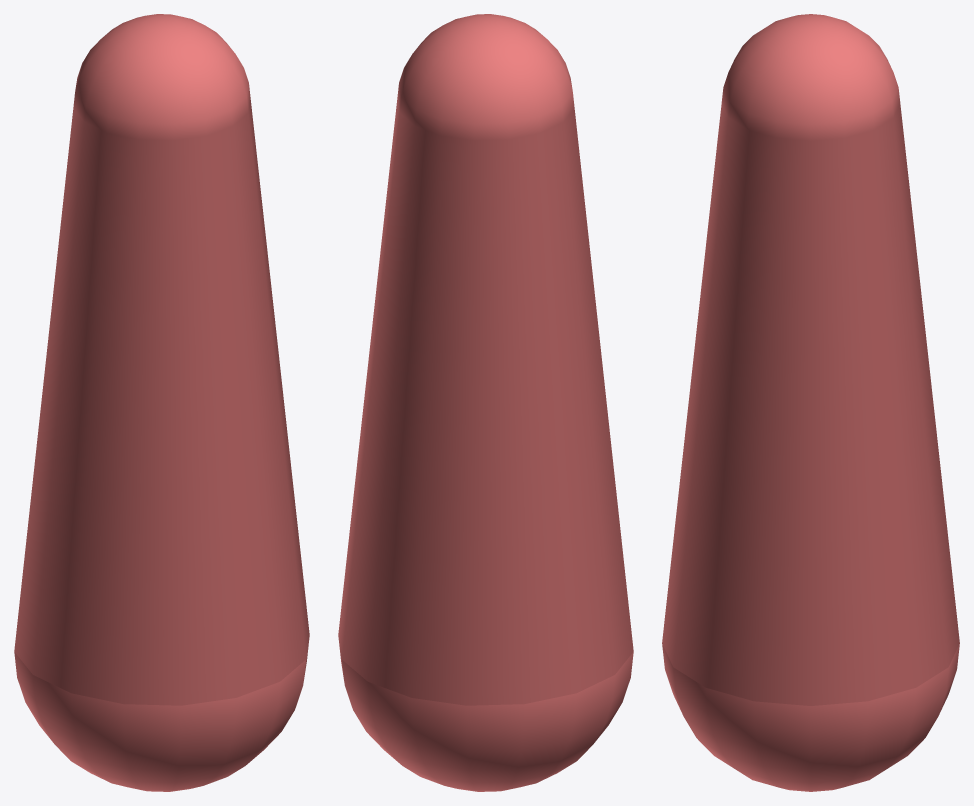
3 renders of one model, left to right at view 1: azimuth 30°, elevation 25°; view 2: azimuth 150°, elevation 25°; view 3: azimuth 270°, elevation 25°, orthographic.
Parts seen in each view (by area): view 1: Capsule_TestCapsule_1; view 2: Capsule_TestCapsule_1; view 3: Capsule_TestCapsule_1.
Boxes of the visible parts, x1,y1,x2,y2 form: Capsule_TestCapsule_1: (14, 14, 309, 791); Capsule_TestCapsule_1: (338, 14, 633, 791); Capsule_TestCapsule_1: (662, 14, 959, 791).
Bounding box in the file's own units: 1 × 2.79 × 1.
